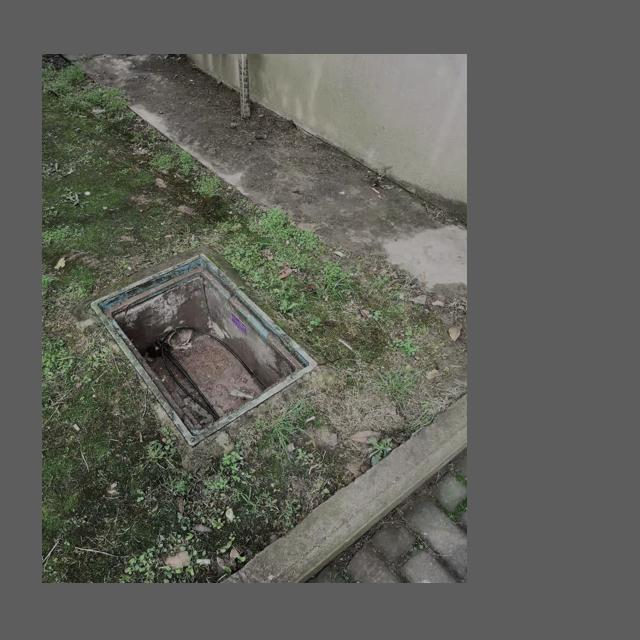lose: (92, 253, 316, 445)
